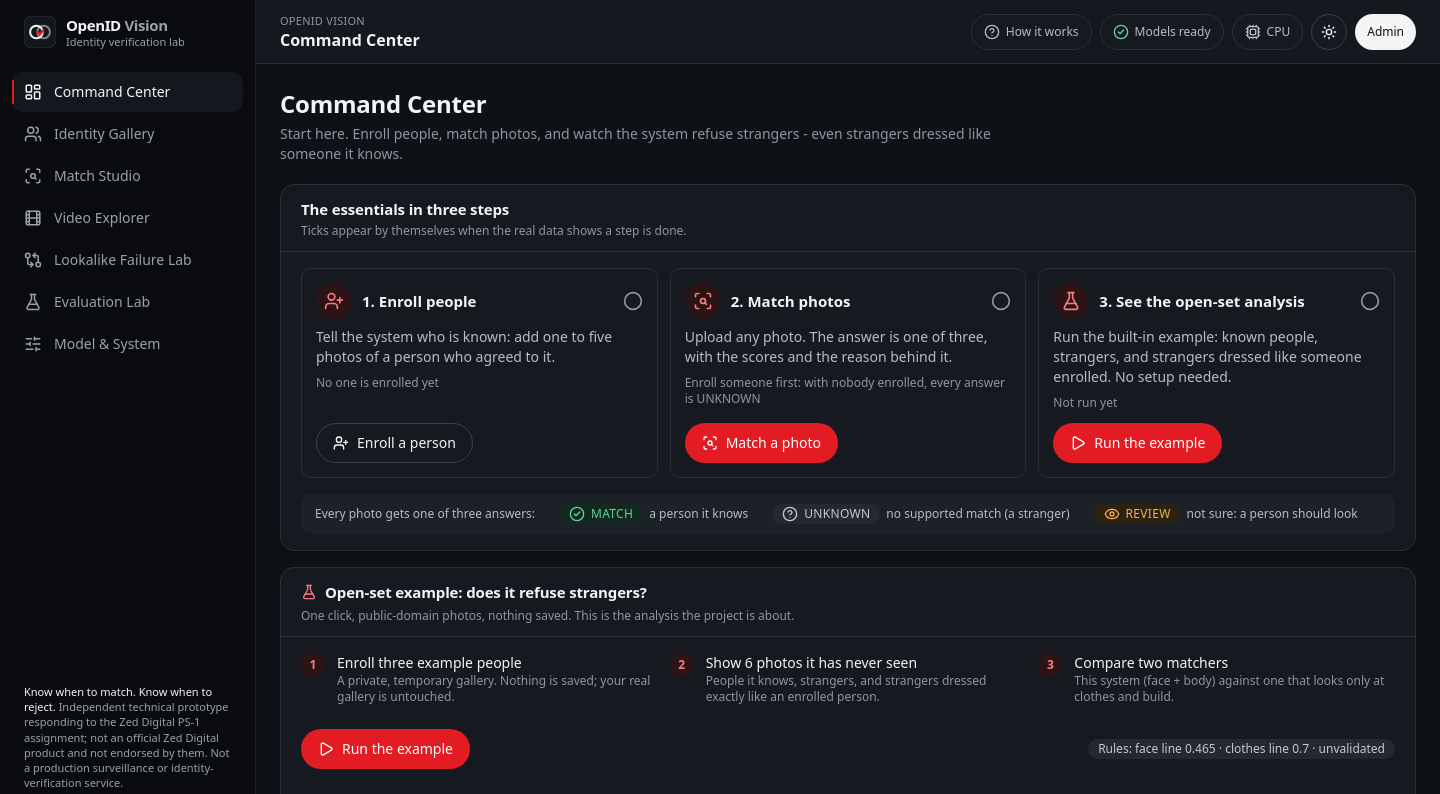
it: home page: the open-set example › scrolls to the example when the third essential is used
Click the button "Run the example" below "See the open-set analysis". click: x=1138, y=443
box: [1053,423,1222,463]
(page scrolled)
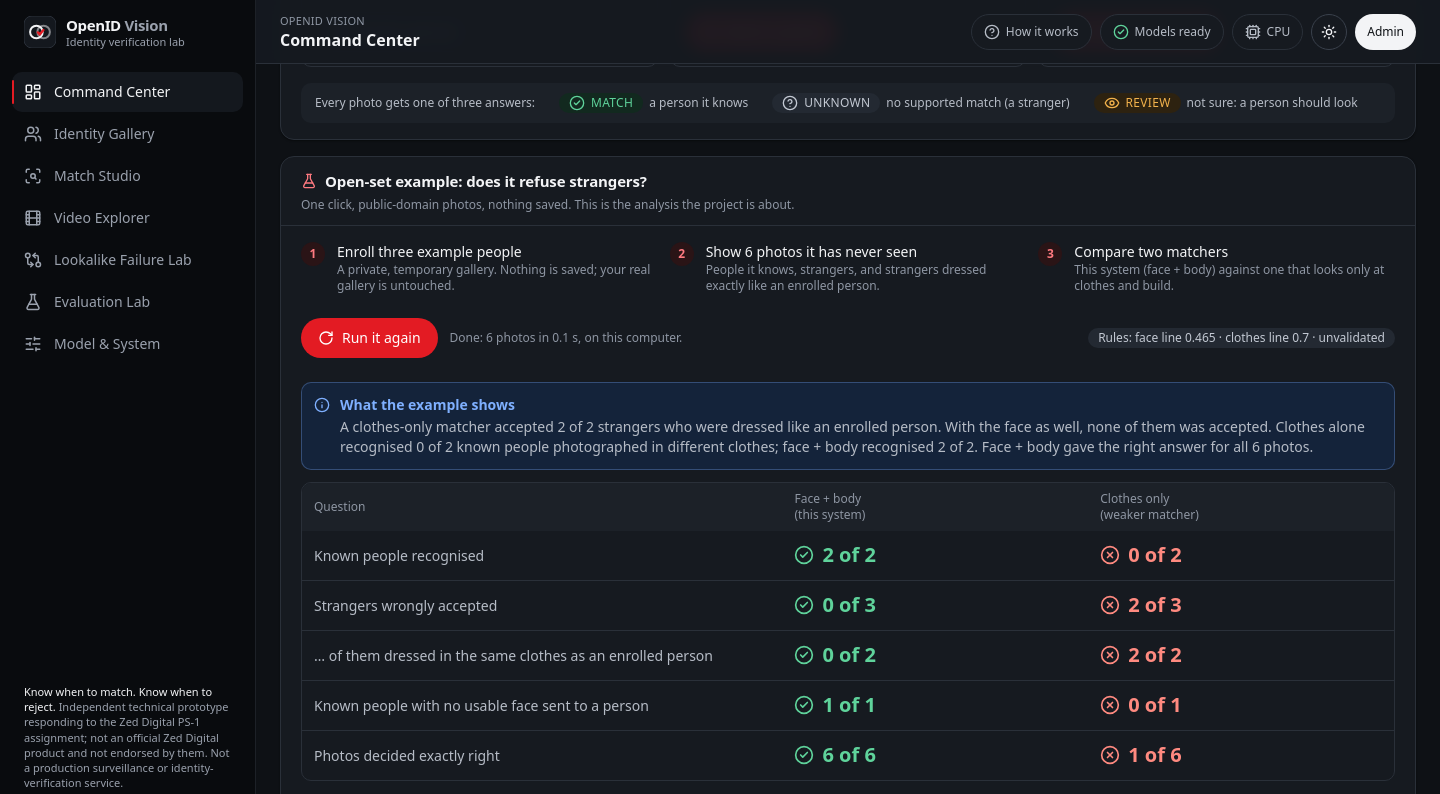
Now the text "What the example shows" is shown, box [340,395,515,414]
